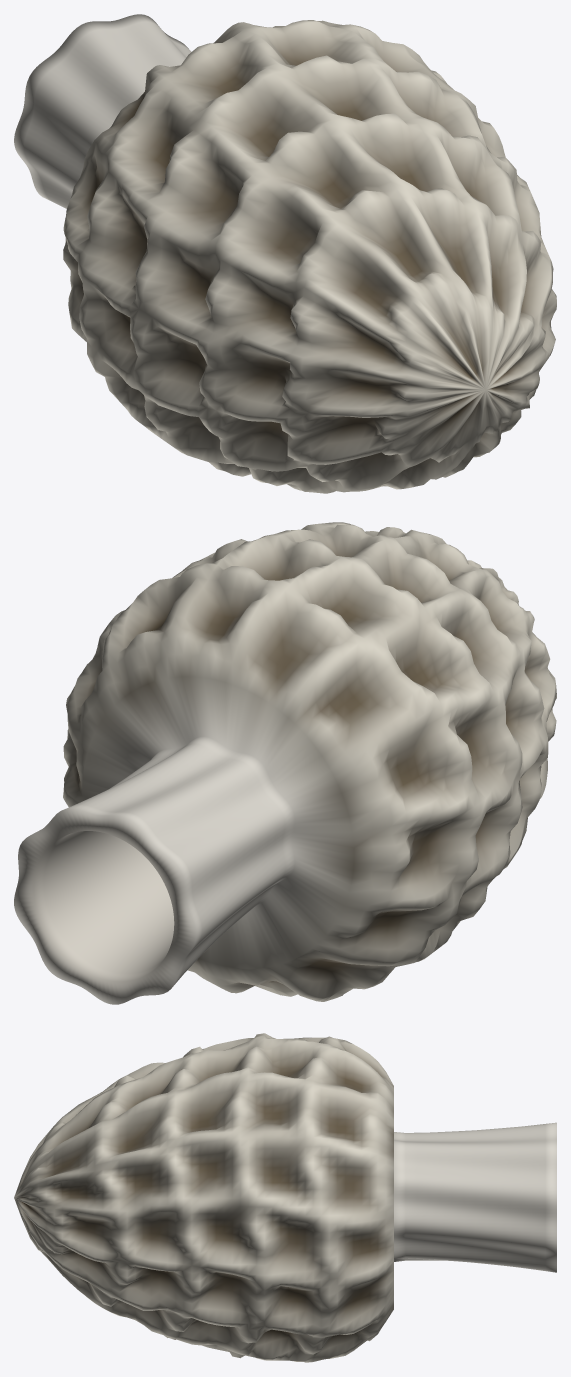
File: morchella-spp.glb
The picture shows the model from 3 angles, top to bottom: view 1: azimuth 30°, elevation 25°; view 2: azimuth 150°, elevation 25°; view 3: azimuth 270°, elevation 25°; orthographic projection. The views are drawn at different scales.
Visible parts, largest first — view 1: ascocarp_body; view 2: ascocarp_body; view 3: ascocarp_body.
Part boxes in pixels (<box>): ascocarp_body: <box>14,14,556,493</box>; ascocarp_body: <box>14,522,556,1004</box>; ascocarp_body: <box>14,1033,556,1362</box>.
Bounding box in the file's own units: 2.12 × 2.12 × 3.5.
